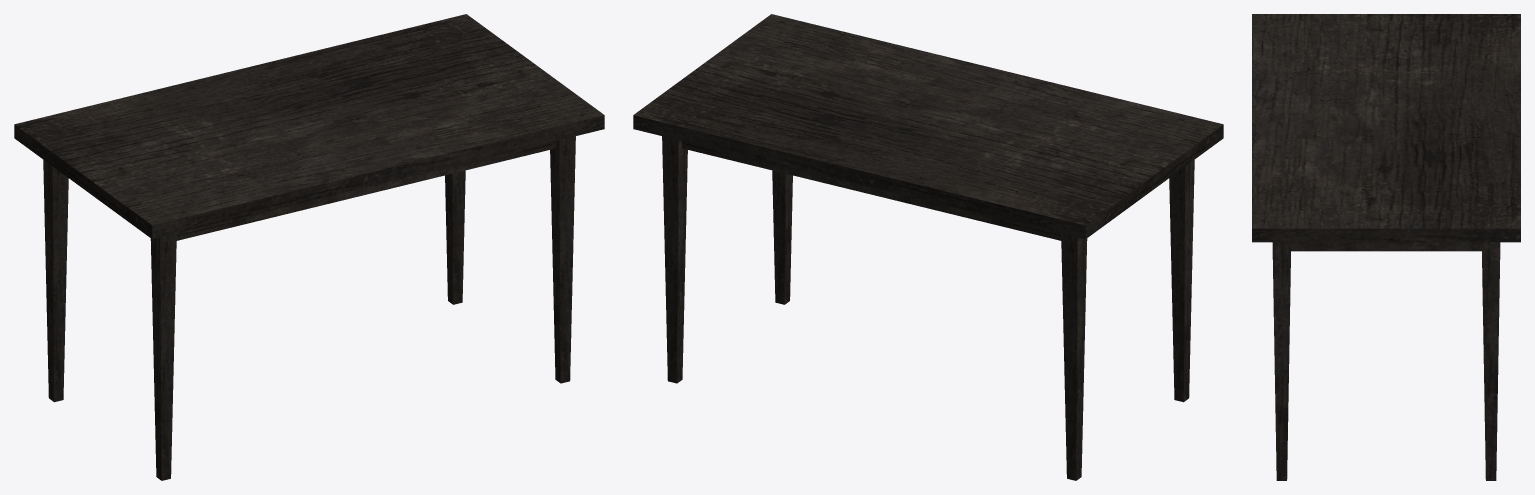
The model's file is table_large_2.fbx.
The picture shows the model from 3 angles, left to right: view 1: azimuth 30°, elevation 25°; view 2: azimuth 150°, elevation 25°; view 3: azimuth 270°, elevation 25°; orthographic projection. The views are drawn at different scales.
Parts seen in each view (by area): view 1: table_large_2; view 2: table_large_2; view 3: table_large_2.
Boxes of the visible parts, left/top/right/bottom form: table_large_2: left=14, top=14, right=604, bottom=480; table_large_2: left=633, top=14, right=1223, bottom=480; table_large_2: left=1252, top=14, right=1520, bottom=480.
Size of the model in its own units: 1.7 by 0.9 by 0.97.
